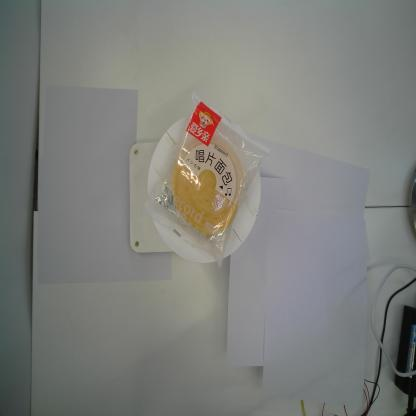Dessert: (140, 90, 270, 270)
